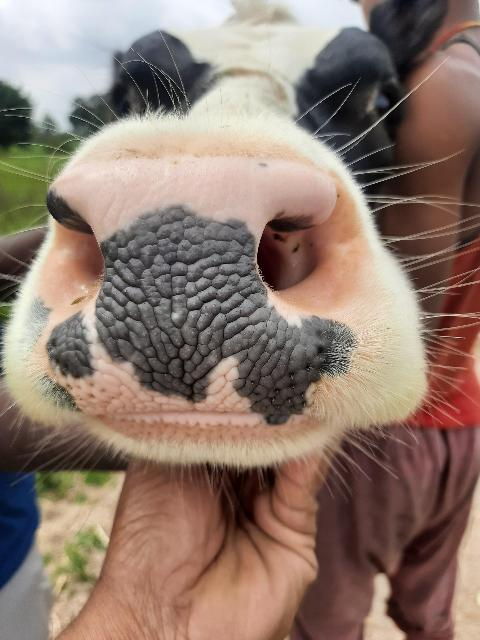Muzzle: (76, 170, 316, 422)
